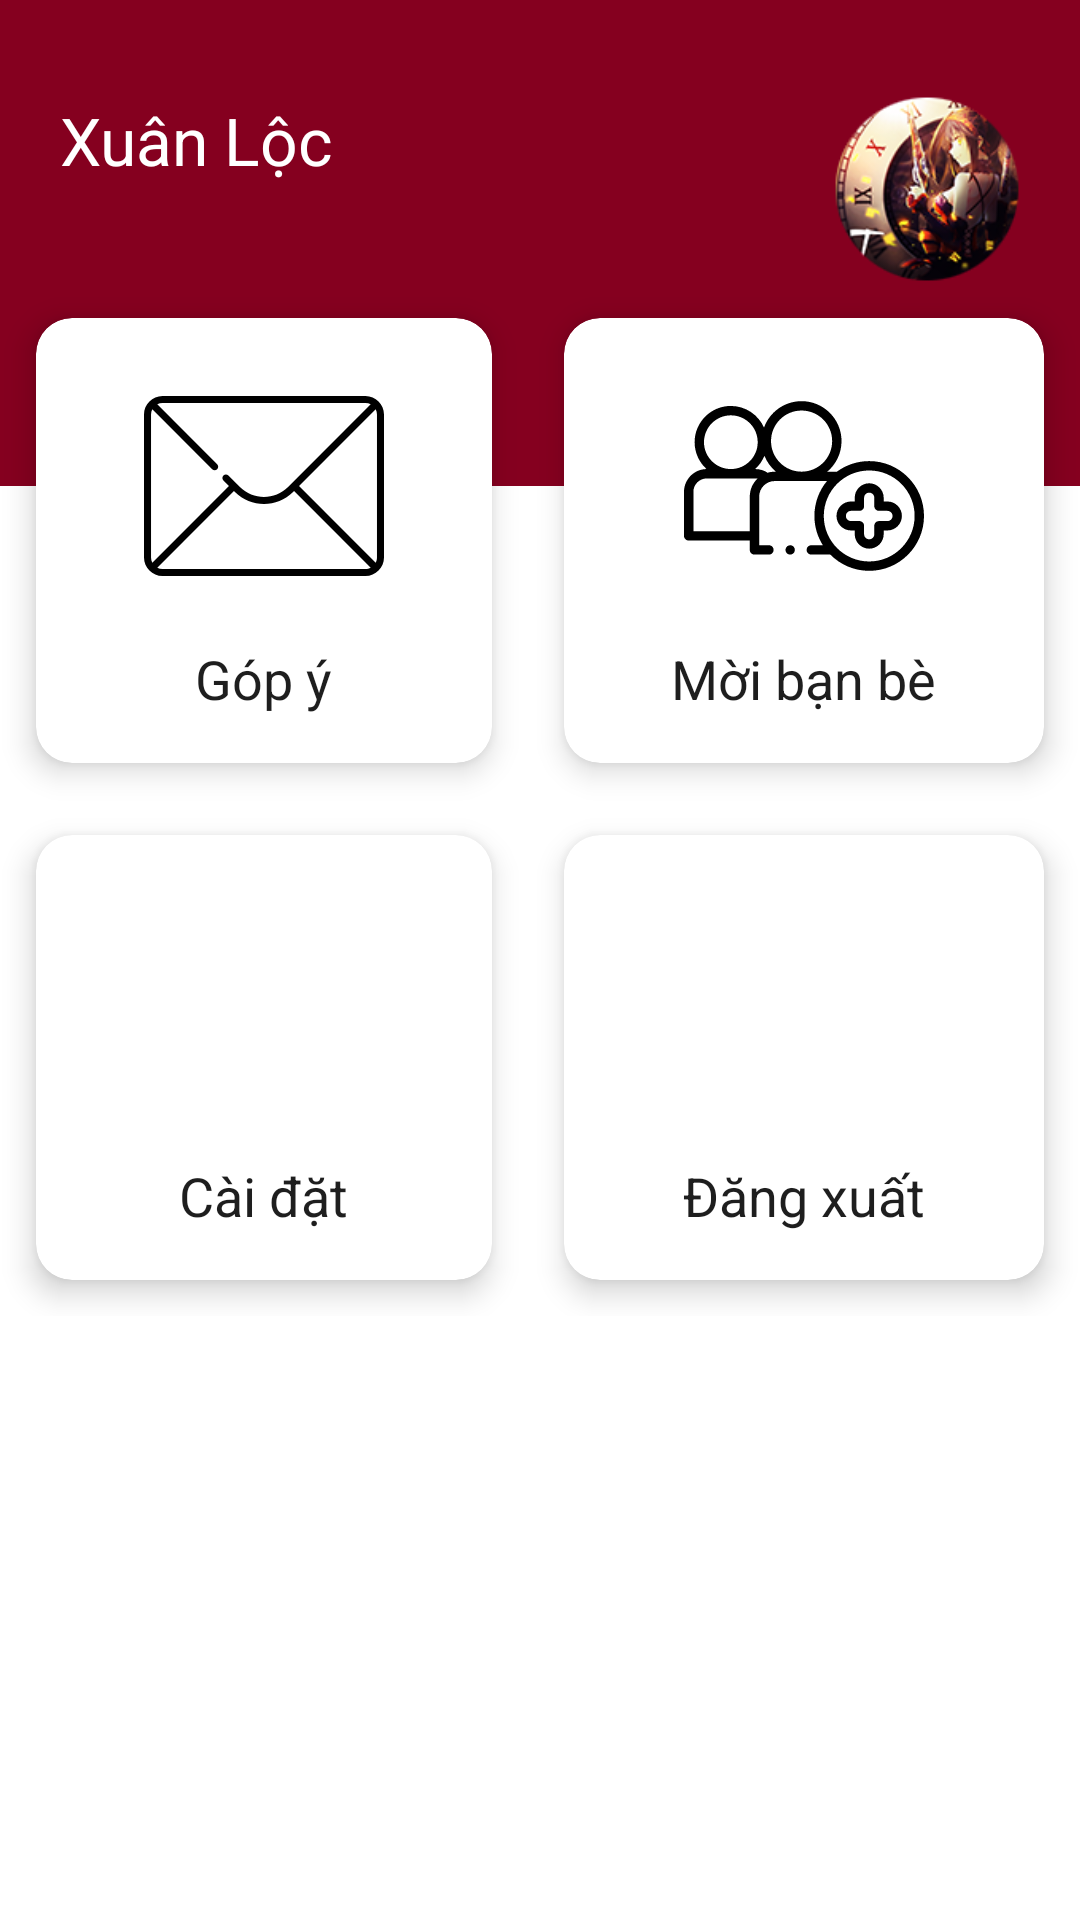

Screen size 1080x1920. Icon name, then its center in pixels as [x,y]:
letter: [264,486]
